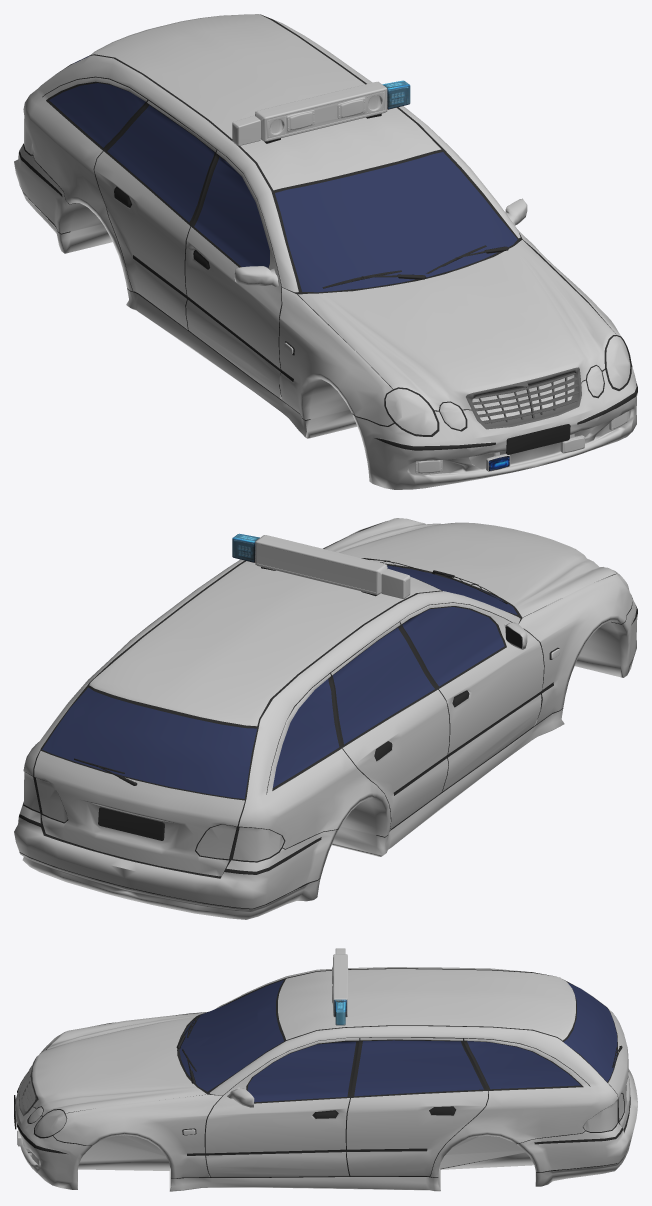
Rendered from notarzt.fbx.
3 views of the same model, one above another, from view 1: azimuth 30°, elevation 25°; view 2: azimuth 150°, elevation 25°; view 3: azimuth 270°, elevation 25° (orthographic). The views are drawn at different scales.
Parts seen in each view (by area): view 1: Mesh; view 2: Mesh; view 3: Mesh.
Boxes of the visible parts, bbox=[...] form: Mesh: bbox=[14, 14, 637, 489]; Mesh: bbox=[14, 518, 637, 919]; Mesh: bbox=[14, 948, 637, 1191].
Bounding box in the file's own units: 197 × 146 × 490.
